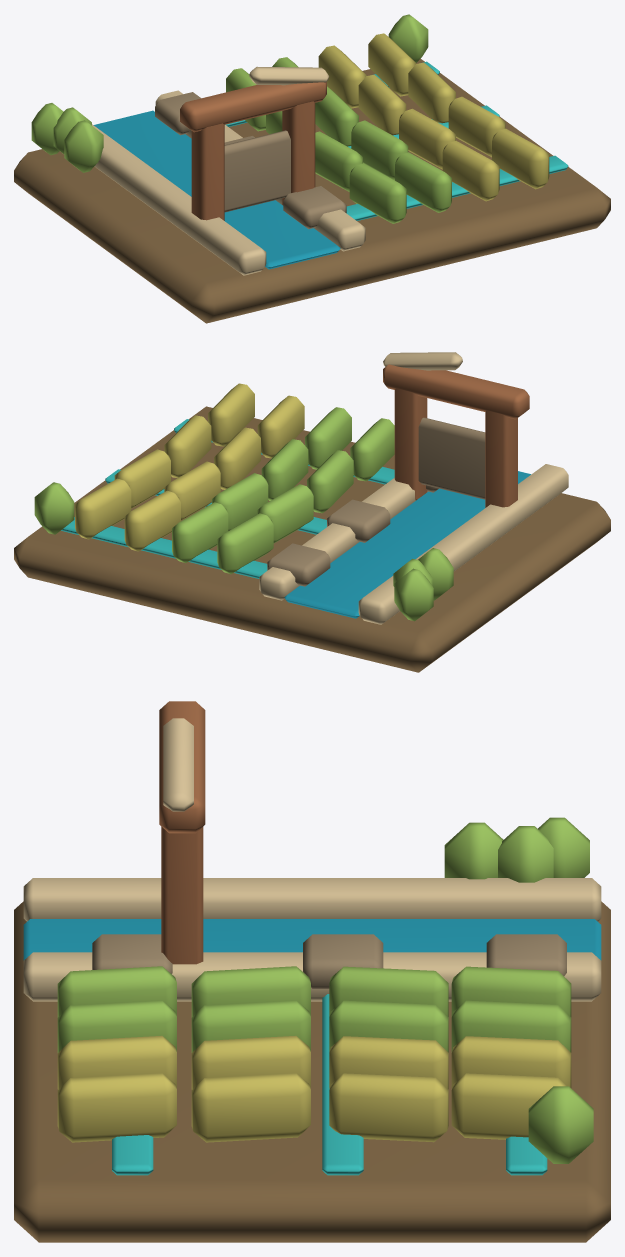
Rendered from irrigation_works.glb.
3 renders of one model, top to bottom at view 1: azimuth 30°, elevation 25°; view 2: azimuth 150°, elevation 25°; view 3: azimuth 270°, elevation 25°, orthographic. The views are drawn at different scales.
Visible parts, largest first — view 1: Acker und Fundament, Gerades Kanalbett, Sandsteinufer, Senkbares Tor, Schleusenjoch, Schleusenpfeiler, Schleusenpfeiler.001, Beetreihe, Beetreihe.003, Beetreihe.002, Beetreihe.001, Beetreihe.007 (+18 smaller); view 2: Acker und Fundament, Gerades Kanalbett, Sandsteinufer, Senkbares Tor, Schleusenjoch, Sandsteinufer.001, Schleusenpfeiler, Schleusenpfeiler.001, Beetreihe.012, Beetreihe.015, Beetreihe.014, Beetreihe.013 (+20 smaller); view 3: Acker und Fundament, Sandsteinufer, Gerades Kanalbett, Sandsteinufer.001, Beetreihe.007, Beetreihe.011, Beetreihe.003, Schleusenpfeiler.001, Beetreihe.015, Beetreihe.014, Beetreihe.006, Beetreihe.002 (+21 smaller).
Boxes of the visible parts, bbox=[...] form: Acker und Fundament: bbox=[14, 58, 610, 323]; Gerades Kanalbett: bbox=[93, 110, 340, 269]; Sandsteinufer: bbox=[92, 124, 266, 275]; Senkbares Tor: bbox=[224, 130, 290, 212]; Schleusenjoch: bbox=[180, 82, 326, 132]; Schleusenpfeiler: bbox=[191, 123, 224, 220]; Schleusenpfeiler.001: bbox=[282, 101, 315, 205]; Beetreihe: bbox=[349, 163, 406, 223]; Beetreihe.003: bbox=[492, 128, 549, 189]; Beetreihe.002: bbox=[442, 140, 499, 201]; Beetreihe.001: bbox=[395, 152, 451, 212]; Beetreihe.007: bbox=[448, 96, 505, 157]; Acker und Fundament: bbox=[14, 406, 610, 672]; Gerades Kanalbett: bbox=[284, 471, 530, 618]; Sandsteinufer: bbox=[358, 464, 568, 624]; Senkbares Tor: bbox=[418, 417, 485, 499]; Schleusenjoch: bbox=[383, 364, 529, 419]; Sandsteinufer.001: bbox=[259, 478, 427, 600]; Schleusenpfeiler: bbox=[485, 410, 517, 507]; Schleusenpfeiler.001: bbox=[394, 388, 427, 500]; Beetreihe.012: bbox=[217, 513, 273, 574]; Beetreihe.015: bbox=[75, 478, 131, 539]; Beetreihe.014: bbox=[124, 490, 180, 551]; Beetreihe.013: bbox=[172, 502, 228, 563]; Acker und Fundament: bbox=[14, 901, 610, 1242]; Sandsteinufer: bbox=[23, 878, 601, 921]; Gerades Kanalbett: bbox=[23, 919, 601, 960]; Sandsteinufer.001: bbox=[23, 952, 601, 1001]; Beetreihe.007: bbox=[191, 1073, 310, 1142]; Beetreihe.011: bbox=[329, 1073, 448, 1142]; Beetreihe.003: bbox=[57, 1073, 176, 1142]; Schleusenpfeiler.001: bbox=[161, 826, 203, 964]; Beetreihe.015: bbox=[451, 1073, 566, 1139]; Beetreihe.014: bbox=[451, 1036, 571, 1088]; Beetreihe.006: bbox=[191, 1035, 310, 1089]; Beetreihe.002: bbox=[57, 1035, 176, 1089].
Bounding box in the file's own units: 1.94 × 0.8779 × 1.56.
